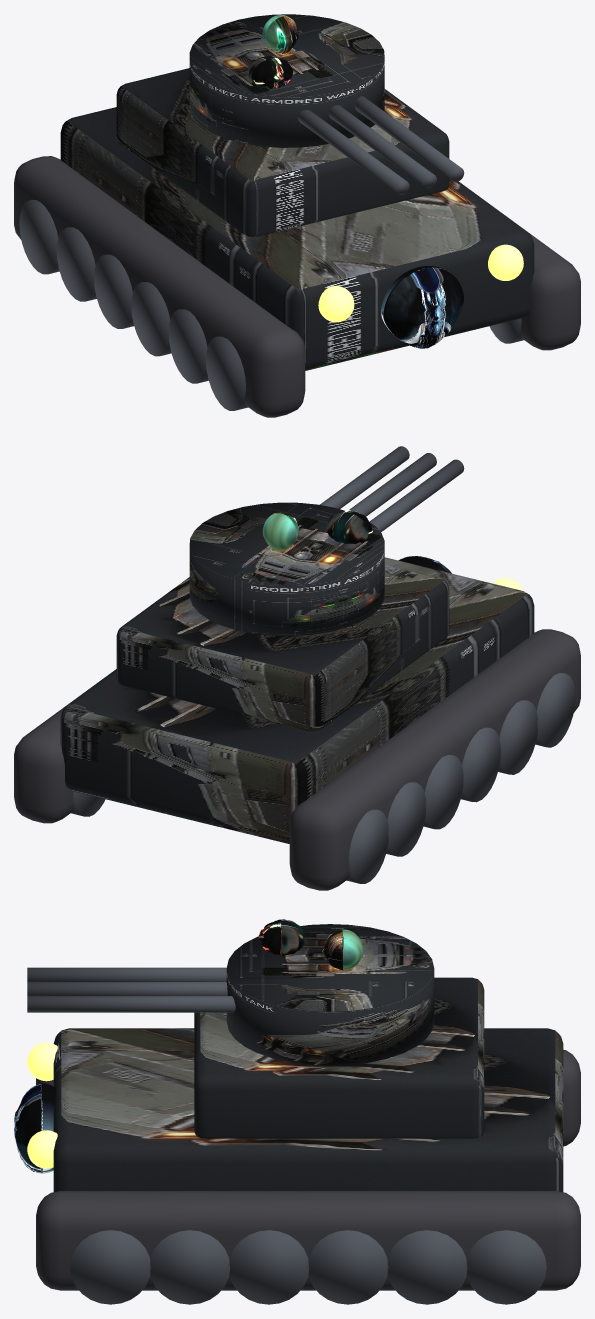
Rendered from pumpkin_patch_tank.glb.
3 renders of one model, top to bottom at view 1: azimuth 30°, elevation 25°; view 2: azimuth 150°, elevation 25°; view 3: azimuth 270°, elevation 25°, orthographic. The views are drawn at different scales.
Parts seen in each view (by area): view 1: Tank_Main_Hull, Tank_Armored_Cab, Tank_Track_L, Tank_Turret_Dome, Tank_Skull_Grille, Tank_Track_R, Tank_Wheel_L_0, Tank_Wheel_L_4, Tank_Wheel_L_5, Tank_Wheel_L_3, Tank_Wheel_L_1, Tank_Wheel_L_2 (+8 smaller); view 2: Tank_Main_Hull, Tank_Armored_Cab, Tank_Turret_Dome, Tank_Track_L, Tank_Track_R, Tank_Wheel_L_5, Tank_Wheel_L_0, Tank_Wheel_L_3, Tank_Wheel_L_4, Tank_Wheel_L_2, Tank_Wheel_L_1, Tank_Cannon_-0.38 (+5 smaller); view 3: Tank_Main_Hull, Tank_Track_R, Tank_Armored_Cab, Tank_Turret_Dome, Tank_Wheel_R_0, Tank_Wheel_R_1, Tank_Wheel_R_4, Tank_Wheel_R_5, Tank_Wheel_R_2, Tank_Wheel_R_3, Tank_Cannon_0.38, Tank_Cannon_-0.38 (+7 smaller).
Boxes of the visible parts, x1,y1,x2,y2 form: Tank_Main_Hull: (60,107,534,370); Tank_Armored_Cab: (116,68,449,236); Tank_Track_L: (14,156,305,417); Tank_Turret_Dome: (189,14,384,147); Tank_Skull_Grille: (381,266,463,348); Tank_Track_R: (458,181,580,350); Tank_Wheel_L_0: (206,336,248,410); Tank_Wheel_L_4: (56,227,96,301); Tank_Wheel_L_5: (19,200,59,274); Tank_Wheel_L_3: (94,254,133,328); Tank_Wheel_L_1: (168,309,208,383); Tank_Wheel_L_2: (131,282,171,356); Tank_Main_Hull: (60,557,534,843); Tank_Armored_Cab: (116,564,449,731); Tank_Turret_Dome: (189,502,384,636); Tank_Track_L: (289,629,580,890); Tank_Track_R: (14,669,116,823); Tank_Wheel_L_5: (346,809,388,883); Tank_Wheel_L_0: (535,673,575,747); Tank_Wheel_L_3: (423,755,463,829); Tank_Wheel_L_4: (386,782,426,856); Tank_Wheel_L_2: (461,727,500,802); Tank_Wheel_L_1: (498,700,537,774); Tank_Cannon_-0.38: (369,459,464,531); Tank_Main_Hull: (53,1028,563,1191); Tank_Track_R: (36,1191,580,1290); Tank_Armored_Cab: (194,977,484,1138); Tank_Turret_Dome: (226,924,434,1065); Tank_Wheel_R_0: (70,1230,150,1304); Tank_Wheel_R_1: (149,1230,230,1304); Tank_Wheel_R_4: (387,1230,467,1304); Tank_Wheel_R_5: (466,1230,546,1304); Tank_Wheel_R_2: (228,1230,309,1304); Tank_Wheel_R_3: (308,1230,388,1304); Tank_Cannon_0.38: (27,996,235,1012); Tank_Cannon_-0.38: (27,967,226,981).
Bounding box in the file's own units: 4.62 × 3.61 × 6.45.
Materials: 7 (4 with a texture image).
